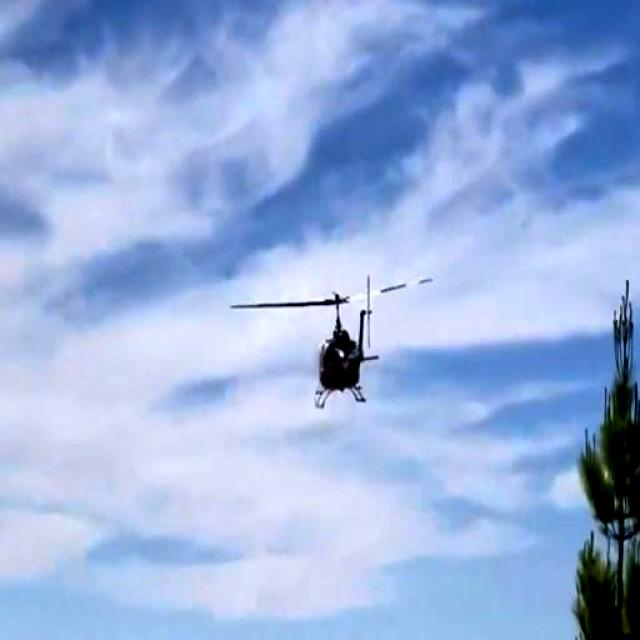drone: (225, 271, 445, 415)
